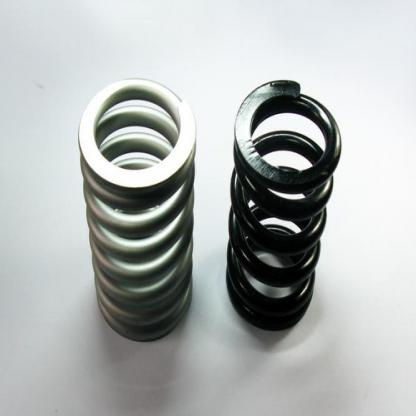FOD: (76, 78, 200, 348), (222, 74, 343, 337)
